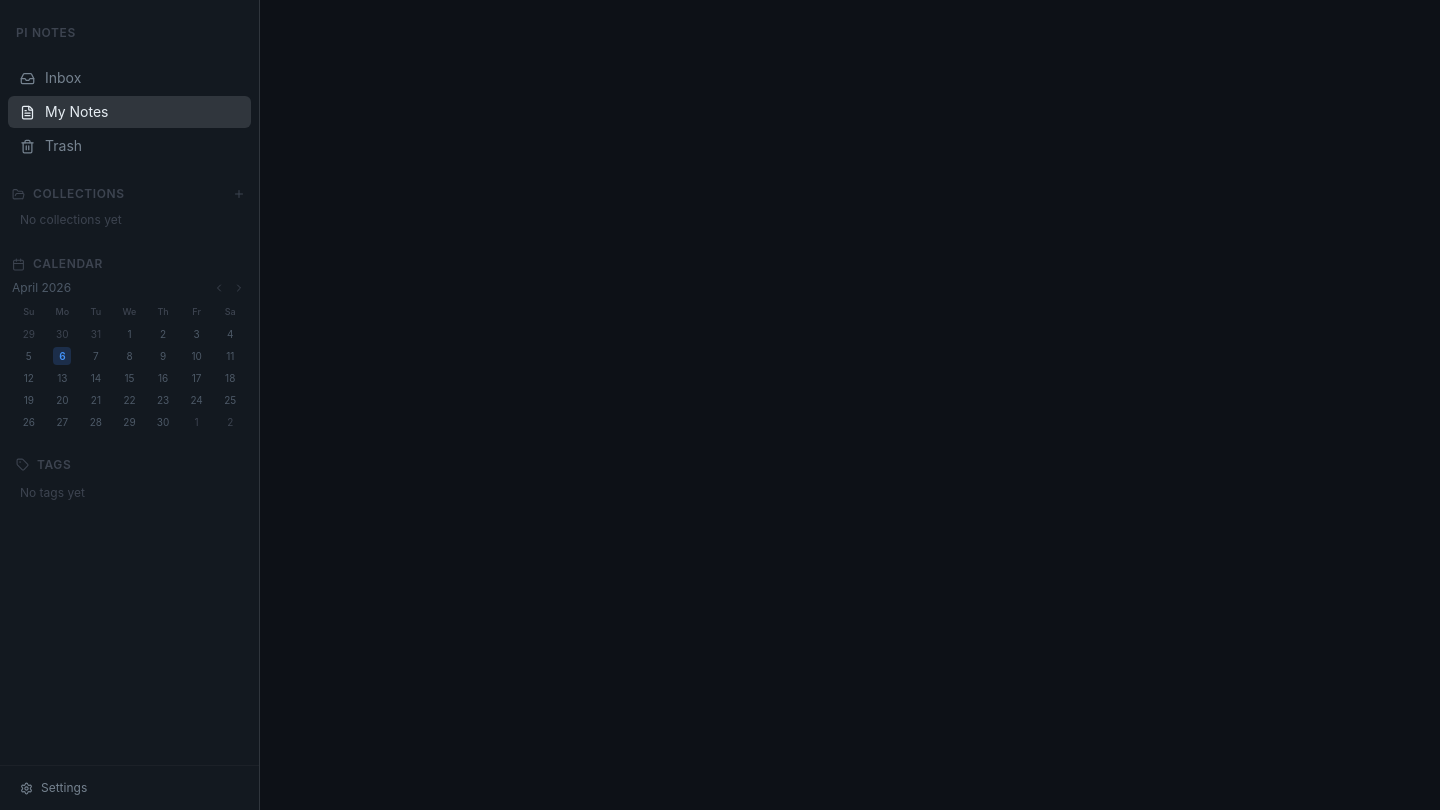
Sidebar › shows settings panel when Settings button is clicked
Click the button "Settings". click: (130, 788)
box: [12, 774, 247, 802]
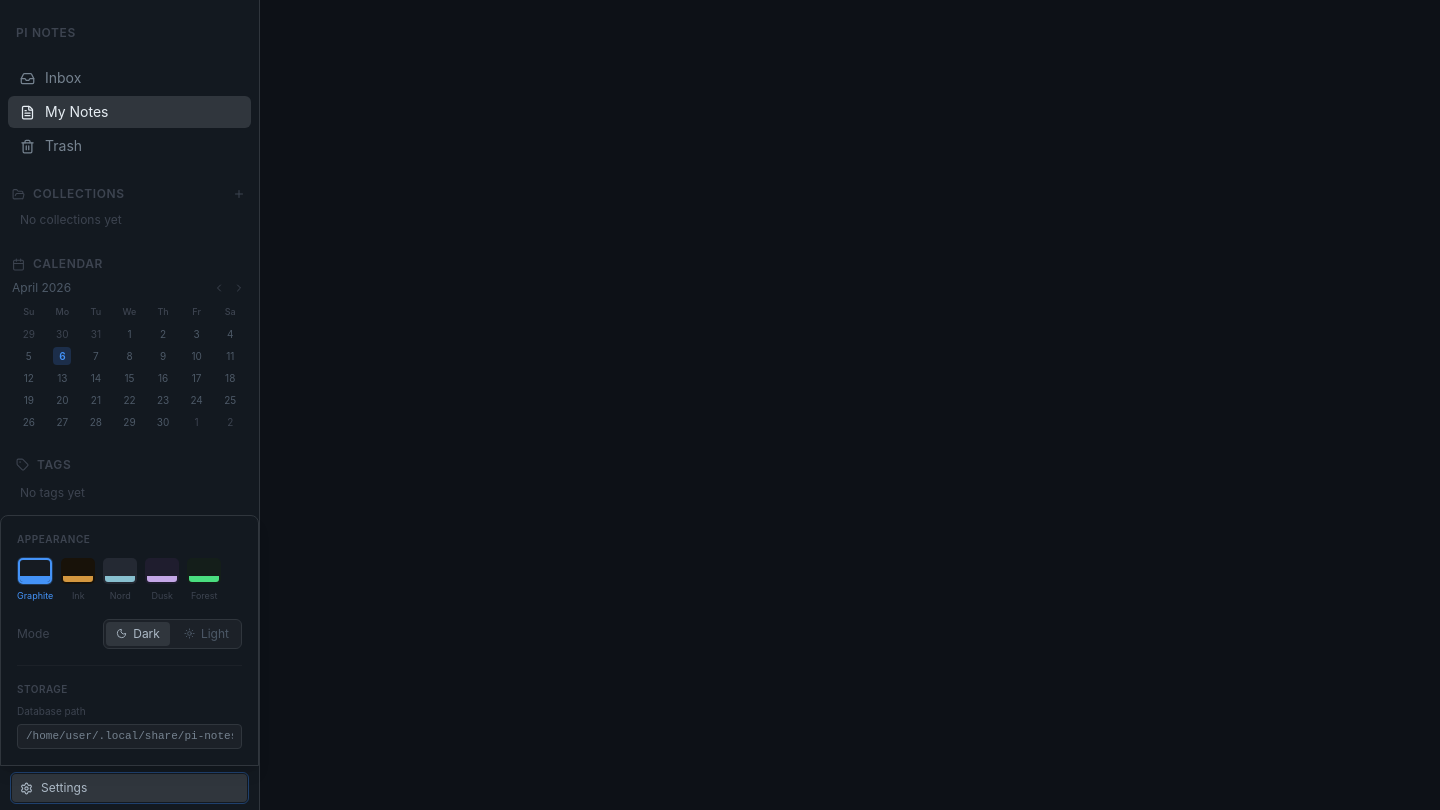
Expected: the text "Appearance" is shown, [17, 533, 90, 545]
